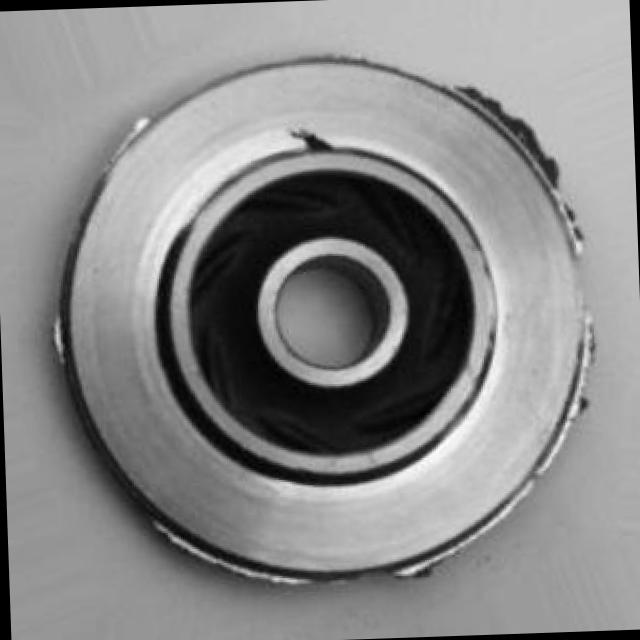Defect: (542, 361, 600, 430), (488, 88, 542, 158), (284, 119, 342, 161)
